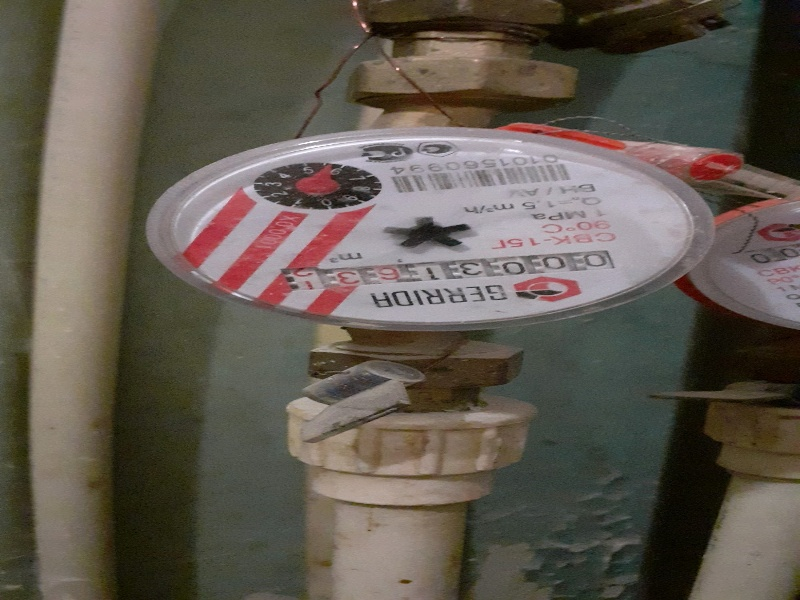dial: (284, 246, 614, 294)
